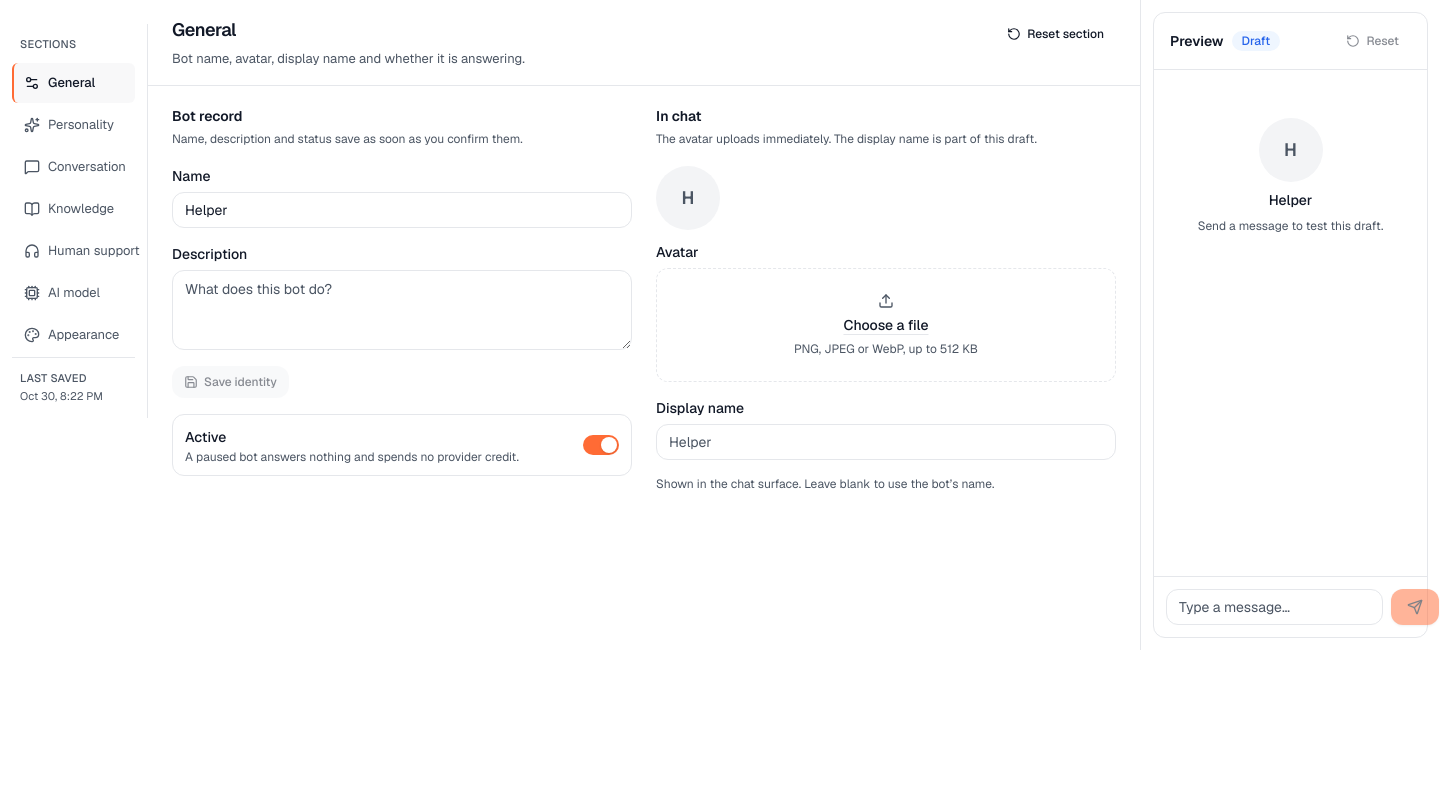
Test: BotConfigTabs — draft lifecycle › preserves the draft when a save fails
Type "Ada" into the field labelled "Display name".
click(886, 442); type("Ada")  # box [656,424,1116,460]
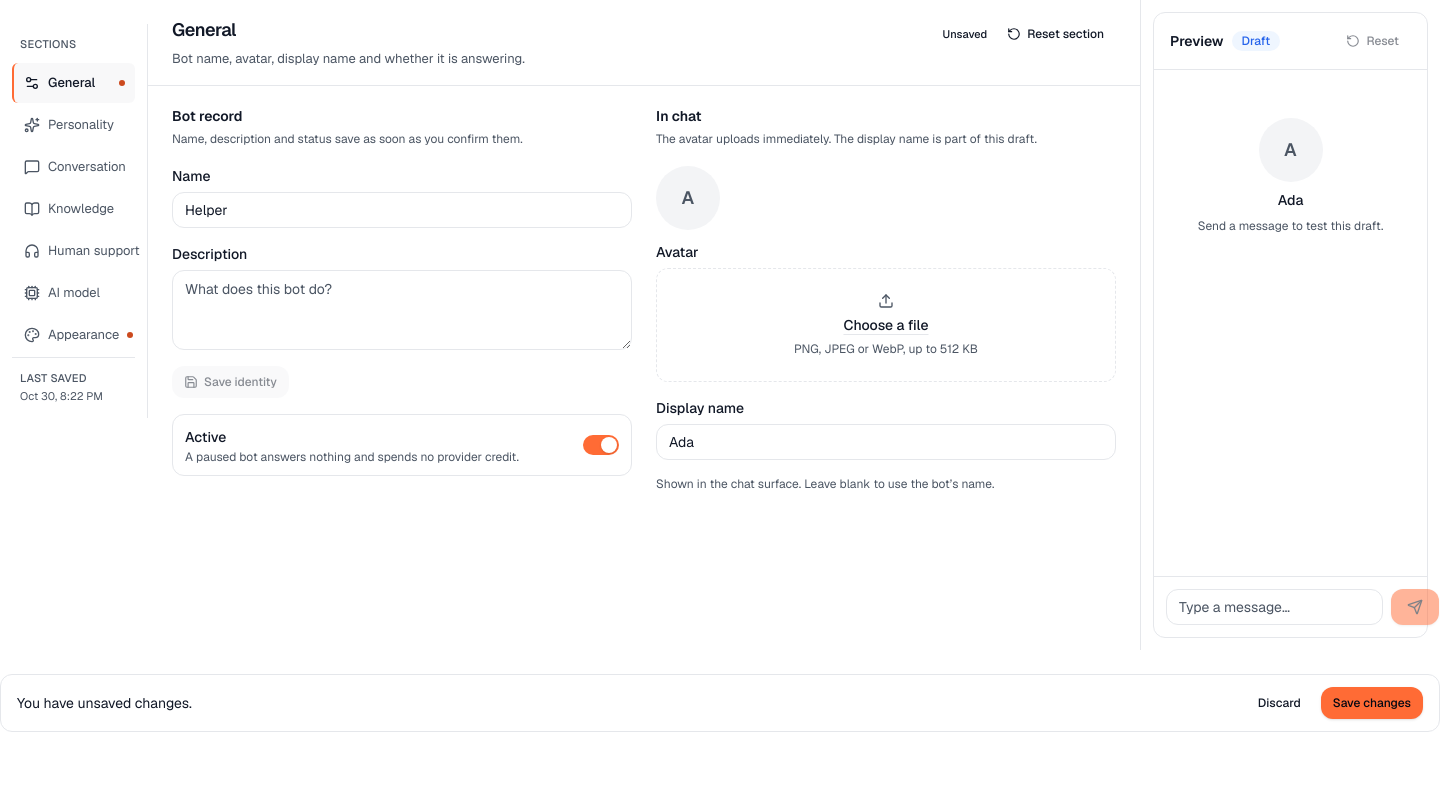
Click the button "Save changes".
click(1372, 703)  # box [1321,687,1423,719]
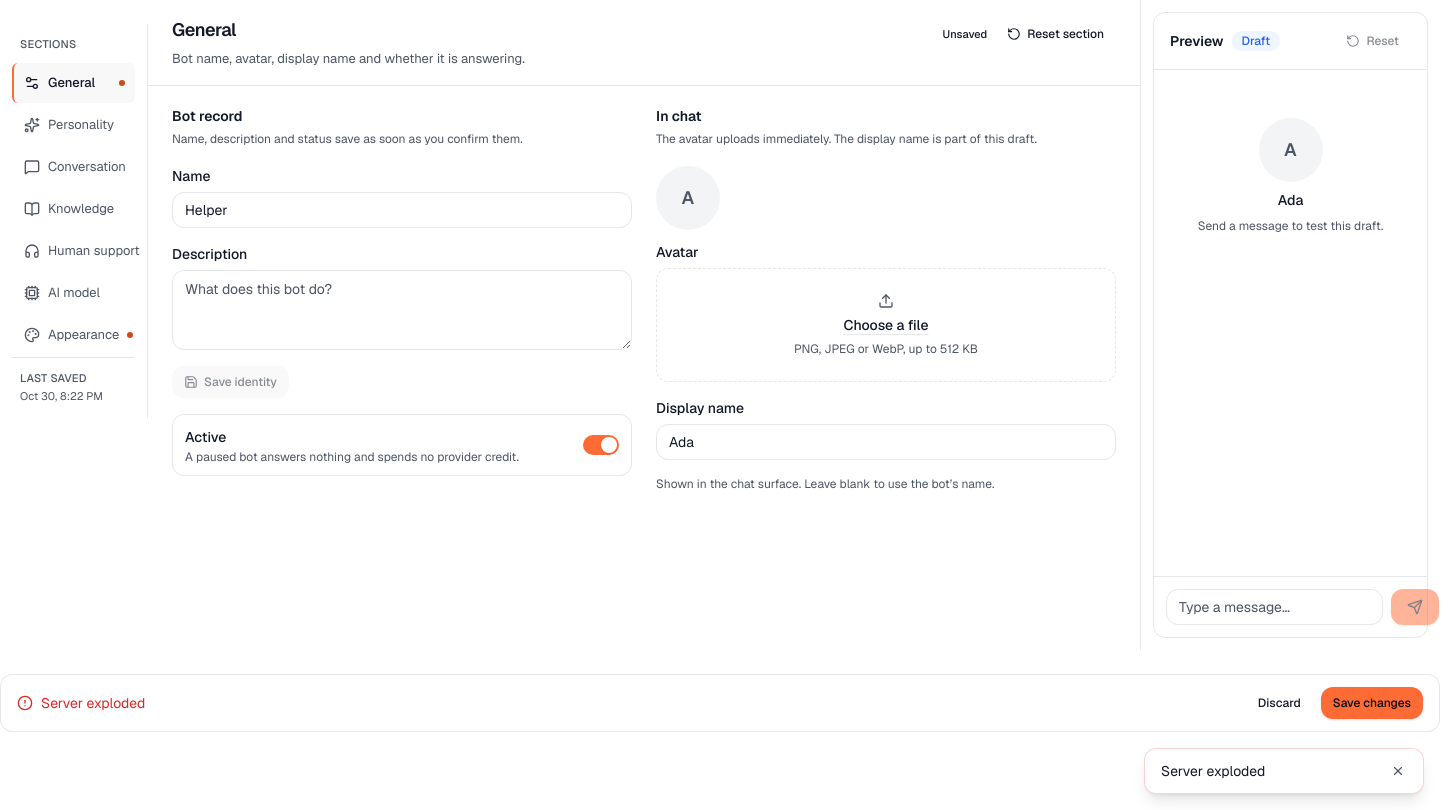
Result: the button "Save changes" is shown at [1321,687,1423,719]
Result: the text "Server exploded" below "Active" is shown at [41,694,145,712]
